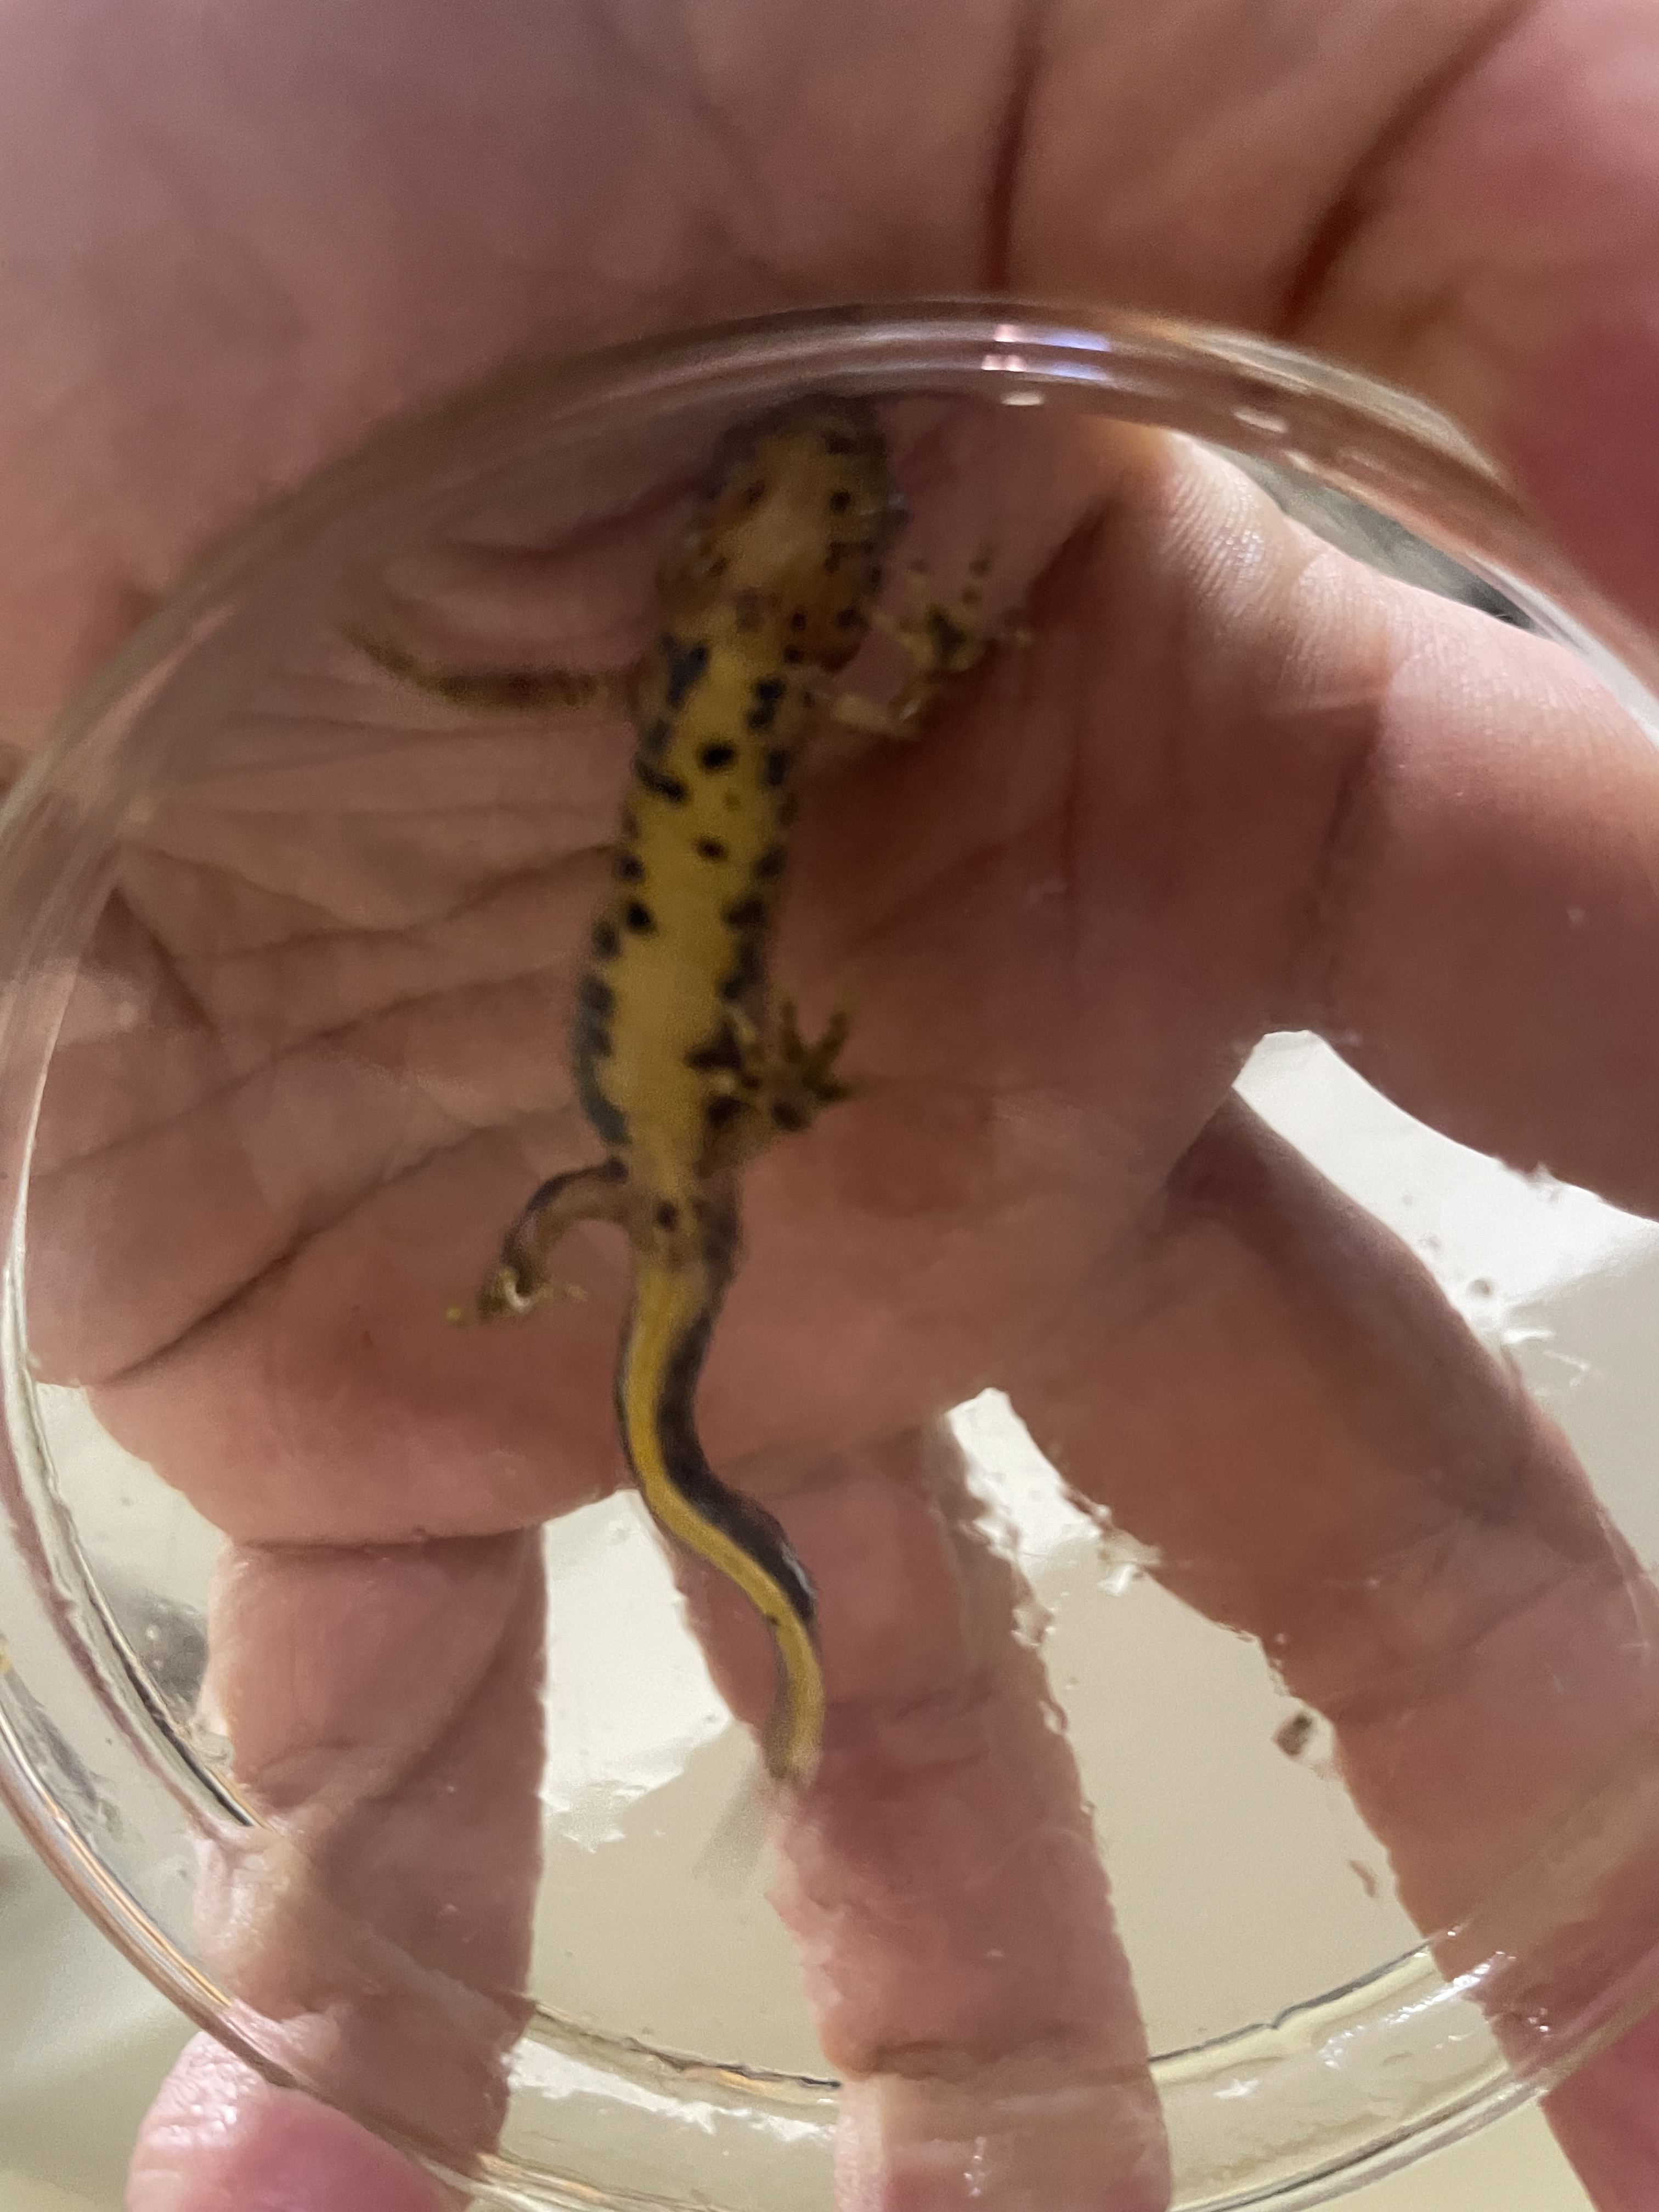Karelin_newt: (570, 705, 805, 1151)
